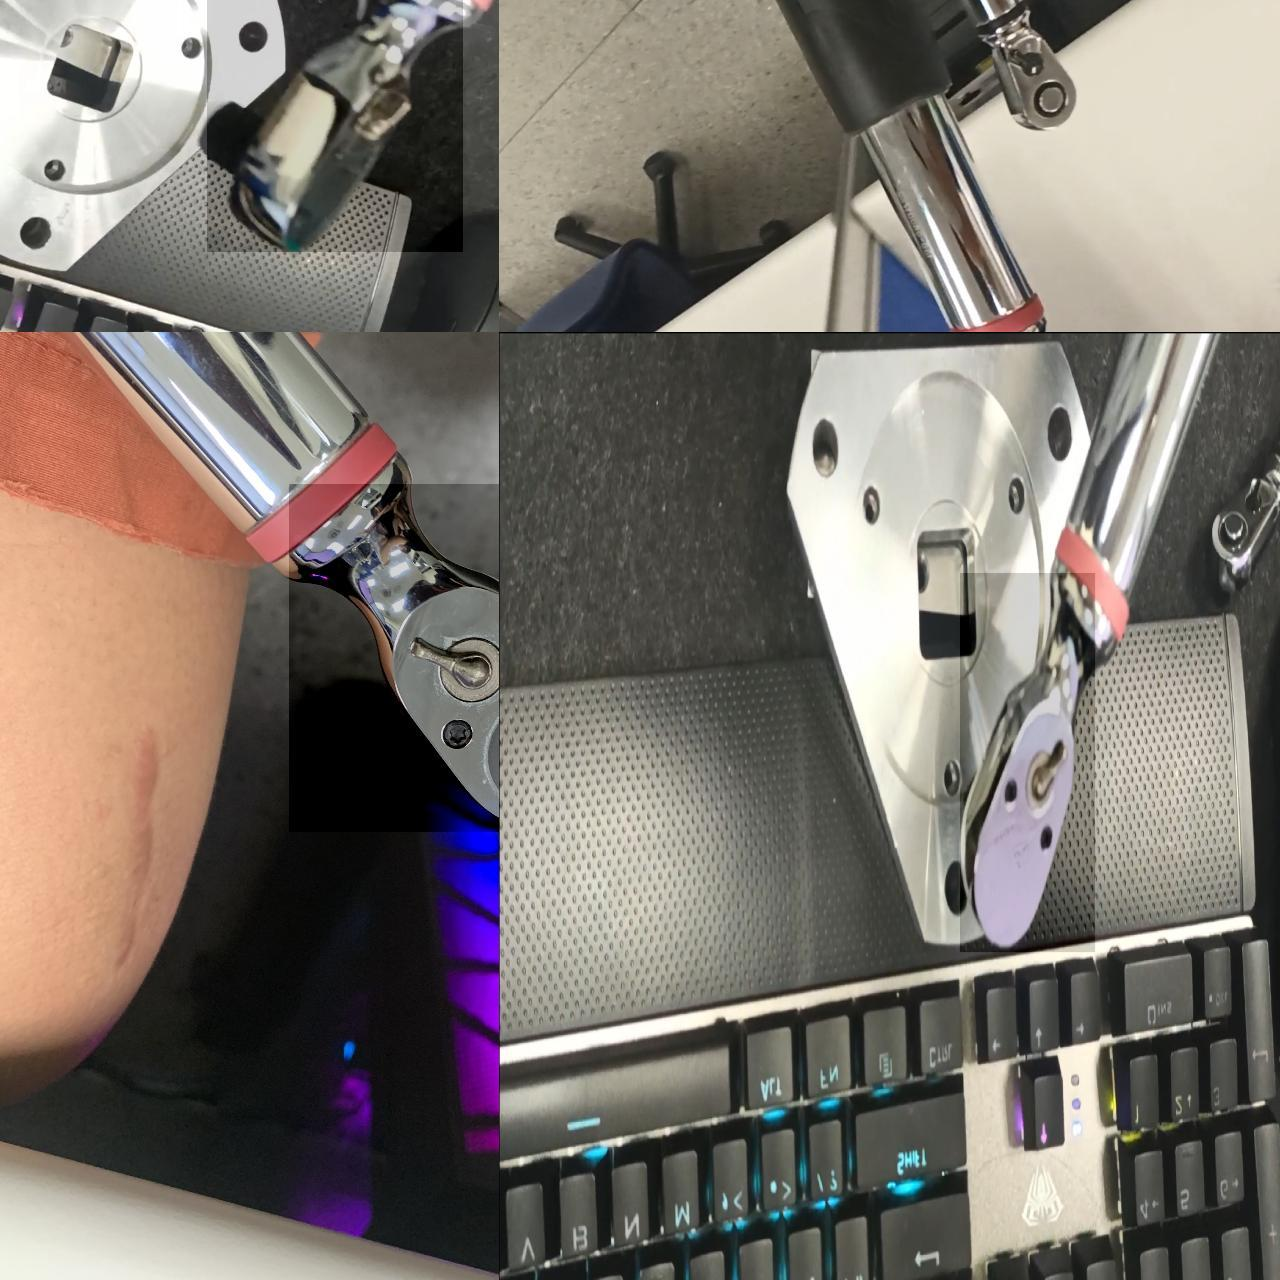Tool: (288, 483, 499, 831), (206, 0, 462, 251), (959, 572, 1095, 951), (980, 14, 1083, 136), (1214, 443, 1280, 587)
